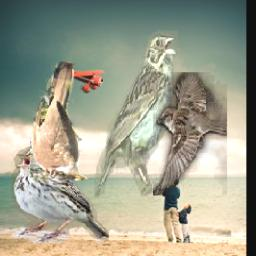Cuckoo: (30, 62, 90, 181)
Sparrow: (95, 24, 179, 204), (13, 141, 110, 243), (154, 72, 228, 195)
